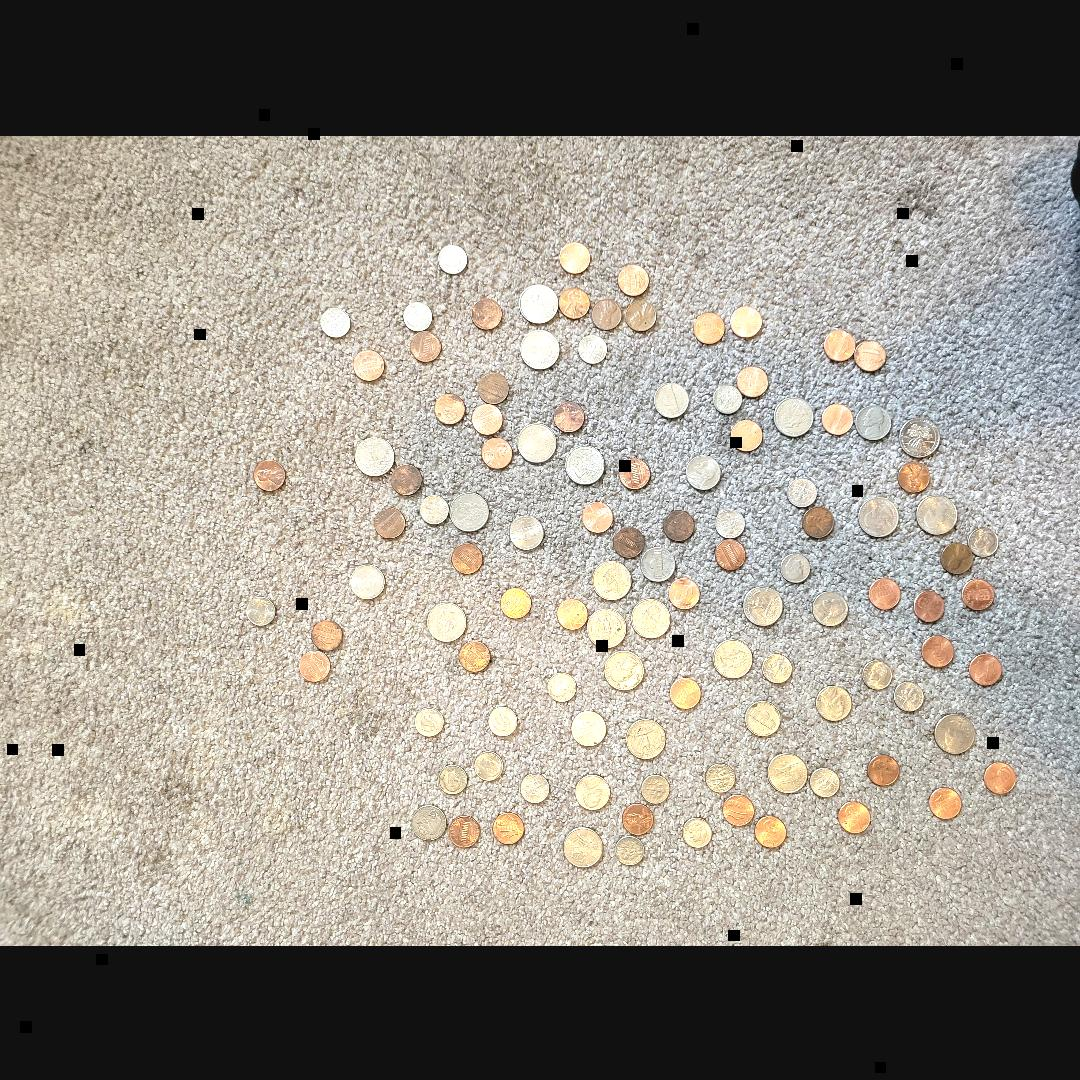Dime: (643, 770, 675, 806), (542, 670, 578, 702), (786, 473, 818, 507), (760, 649, 792, 683), (967, 526, 999, 560), (487, 705, 519, 737), (474, 750, 506, 782), (437, 763, 469, 795), (439, 242, 470, 274), (320, 307, 352, 338), (862, 659, 894, 690), (708, 384, 741, 414), (782, 551, 812, 584), (712, 508, 744, 538), (245, 596, 277, 626), (520, 771, 550, 803), (810, 766, 840, 798), (682, 815, 712, 847), (704, 760, 733, 793), (894, 681, 924, 712), (402, 298, 432, 328), (422, 494, 452, 524), (614, 835, 646, 863), (578, 334, 608, 363), (414, 708, 444, 736)
Nickel: (744, 696, 784, 738), (576, 768, 614, 810), (898, 420, 940, 458), (349, 563, 389, 601), (408, 805, 448, 842), (814, 682, 851, 722), (686, 452, 724, 490), (809, 591, 847, 629), (572, 707, 608, 745), (854, 402, 892, 438), (508, 514, 544, 552), (656, 380, 692, 418), (640, 545, 676, 580)
Penny: (980, 756, 1020, 796), (930, 782, 967, 821), (940, 538, 976, 578), (864, 751, 900, 789), (727, 414, 763, 451), (447, 812, 484, 848), (350, 344, 386, 380), (692, 308, 728, 344), (836, 797, 872, 833), (920, 632, 956, 668), (620, 800, 656, 836), (488, 811, 526, 845), (581, 498, 616, 534), (617, 453, 652, 489), (967, 652, 1004, 686), (450, 540, 484, 576), (899, 458, 933, 494), (962, 576, 996, 612), (559, 284, 593, 320), (755, 814, 789, 850), (868, 574, 902, 610), (728, 305, 764, 339), (912, 586, 946, 622), (253, 458, 287, 493), (469, 294, 503, 329), (670, 674, 703, 710), (299, 647, 335, 680), (716, 534, 749, 570), (624, 294, 656, 331), (616, 260, 650, 294), (737, 363, 771, 397), (500, 586, 534, 620), (556, 596, 588, 632), (559, 239, 592, 273), (664, 506, 697, 540), (725, 794, 758, 828), (310, 617, 344, 650), (824, 328, 856, 362), (853, 337, 885, 371), (408, 328, 440, 362), (480, 370, 512, 404), (613, 526, 645, 559), (821, 402, 854, 434), (803, 503, 833, 538), (554, 401, 586, 433), (432, 390, 464, 422), (375, 506, 407, 538), (474, 402, 506, 434), (392, 462, 422, 496), (670, 576, 700, 609), (460, 640, 490, 672), (590, 296, 620, 328), (484, 436, 514, 468)
Quarter: (931, 710, 976, 755), (859, 491, 901, 539), (516, 327, 560, 371), (915, 493, 958, 538), (602, 647, 645, 691), (355, 435, 400, 477), (744, 584, 786, 628), (562, 825, 604, 869), (448, 490, 492, 532), (516, 280, 560, 322), (427, 599, 467, 645), (632, 595, 672, 640), (768, 751, 810, 793), (624, 717, 666, 759), (714, 636, 756, 678), (514, 420, 556, 462), (566, 441, 606, 484), (586, 608, 628, 648), (776, 396, 815, 438), (590, 561, 632, 599)
